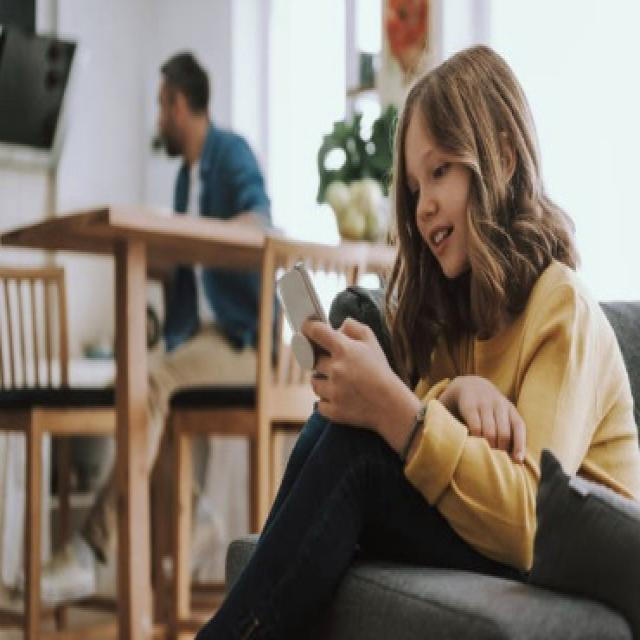adult: (79, 37, 270, 556)
child: (327, 61, 639, 583)
